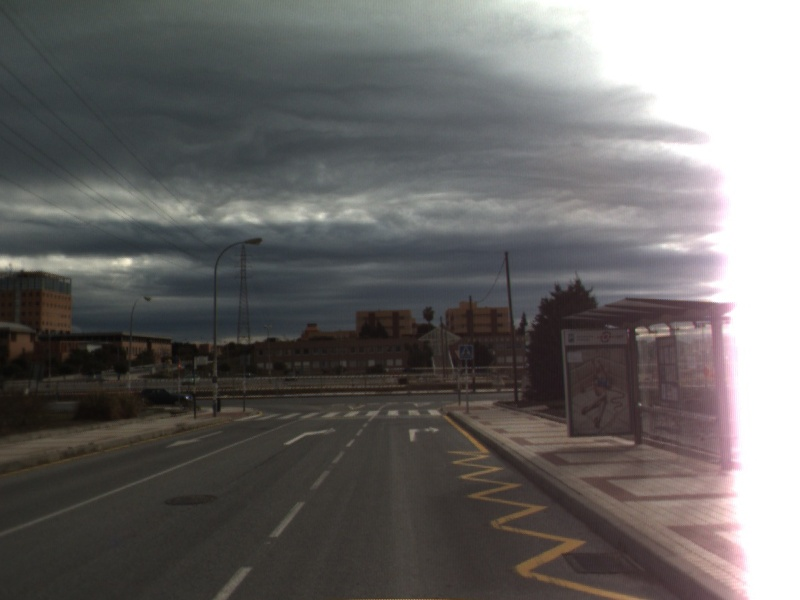RIGHT: (281, 425, 338, 447), (407, 424, 442, 444)
